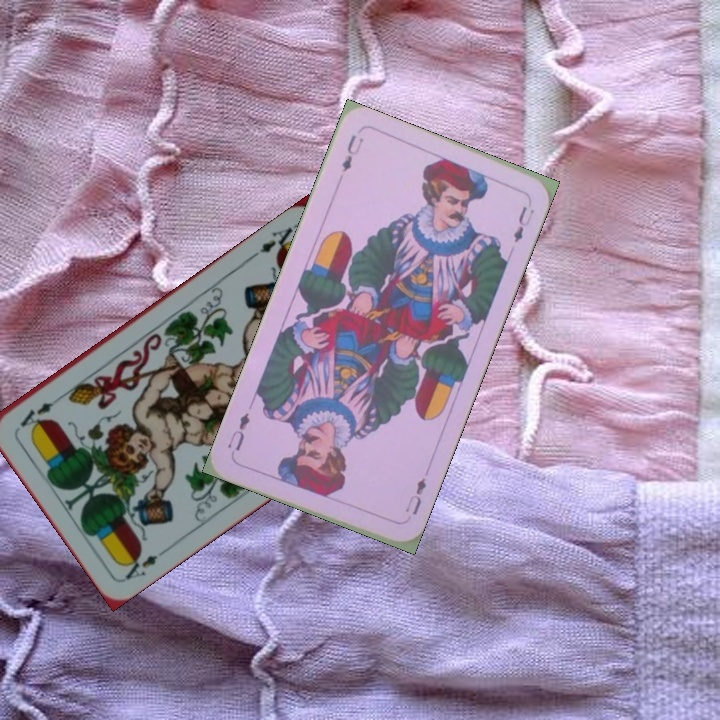EA: (118, 543, 172, 582), (256, 221, 300, 258)
EU: (337, 131, 366, 175), (401, 473, 429, 518)
